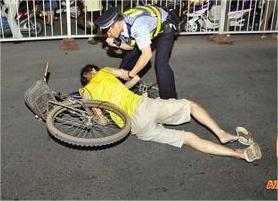bending: (97, 1, 179, 96)
down: (82, 63, 243, 161)
